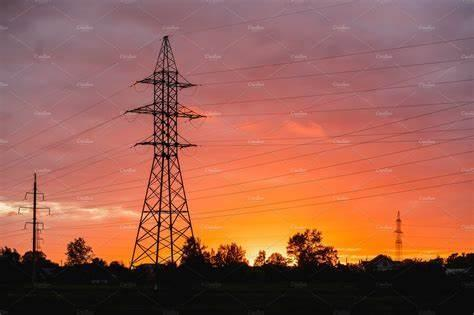power_tower: (123, 31, 213, 270)
